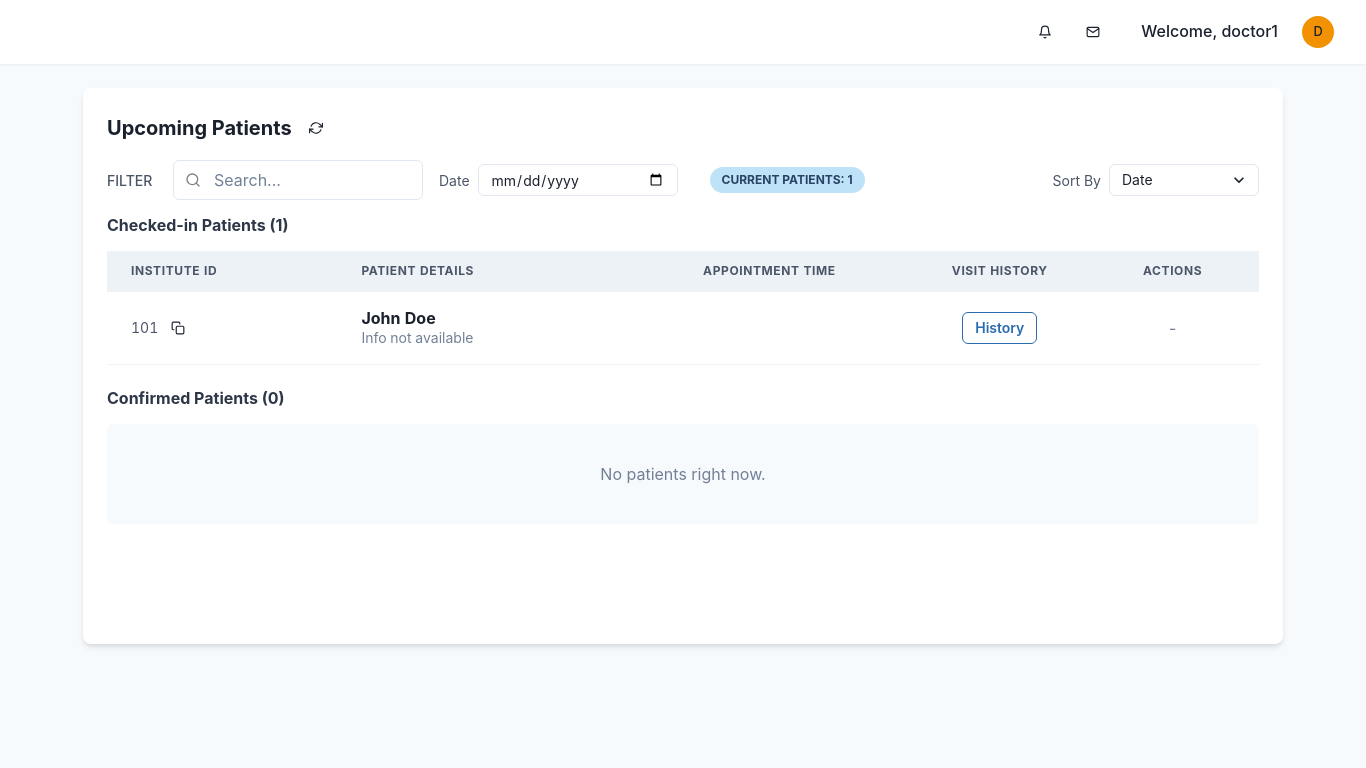
DoctorsDashboard Component › autosaves and closes the modal immediately
This screenshot has width=1366, height=768.
Click the text "John Doe" at (399, 318), box 361,308 -> 436,328
(page scrolled)
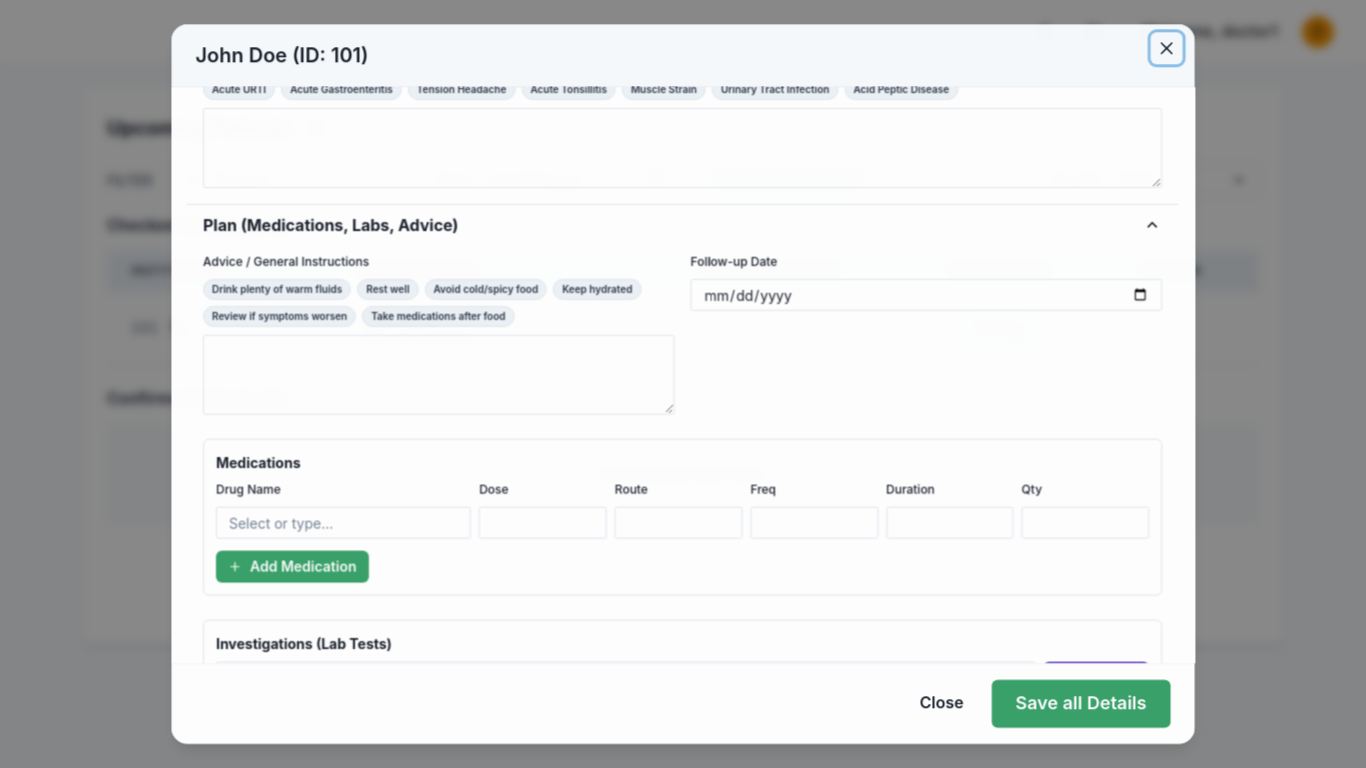
expect the text "John Doe (ID: 101)" is shown: met, box 171,24 -> 1195,87
// Type in advice
Type "Unsaved advice" into the text box labelled "Advice / General Instructions" at (439, 375), box 203,335 -> 675,415
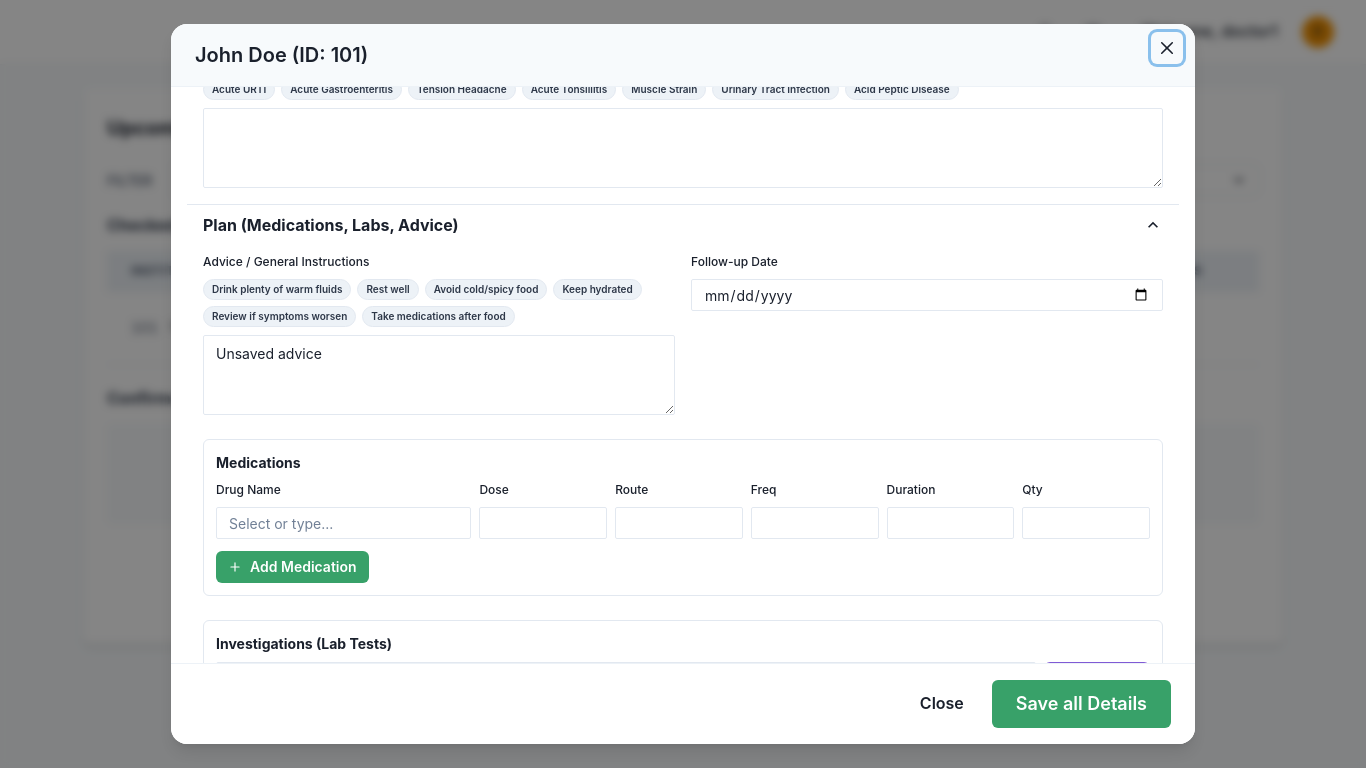
// Click Close
Click the button "Close" at (942, 704), box 904,684 -> 980,724
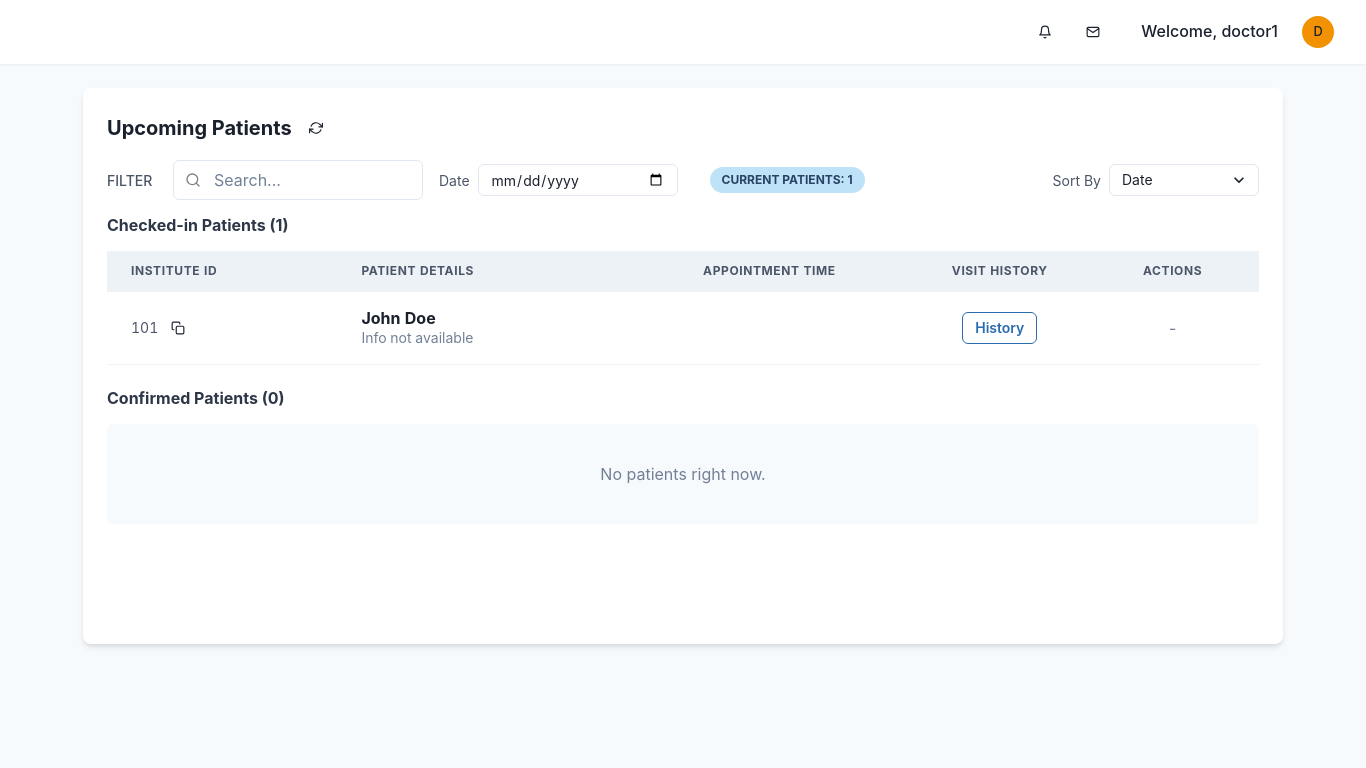
expect the text "John Doe (ID: 101)" is gone: met
